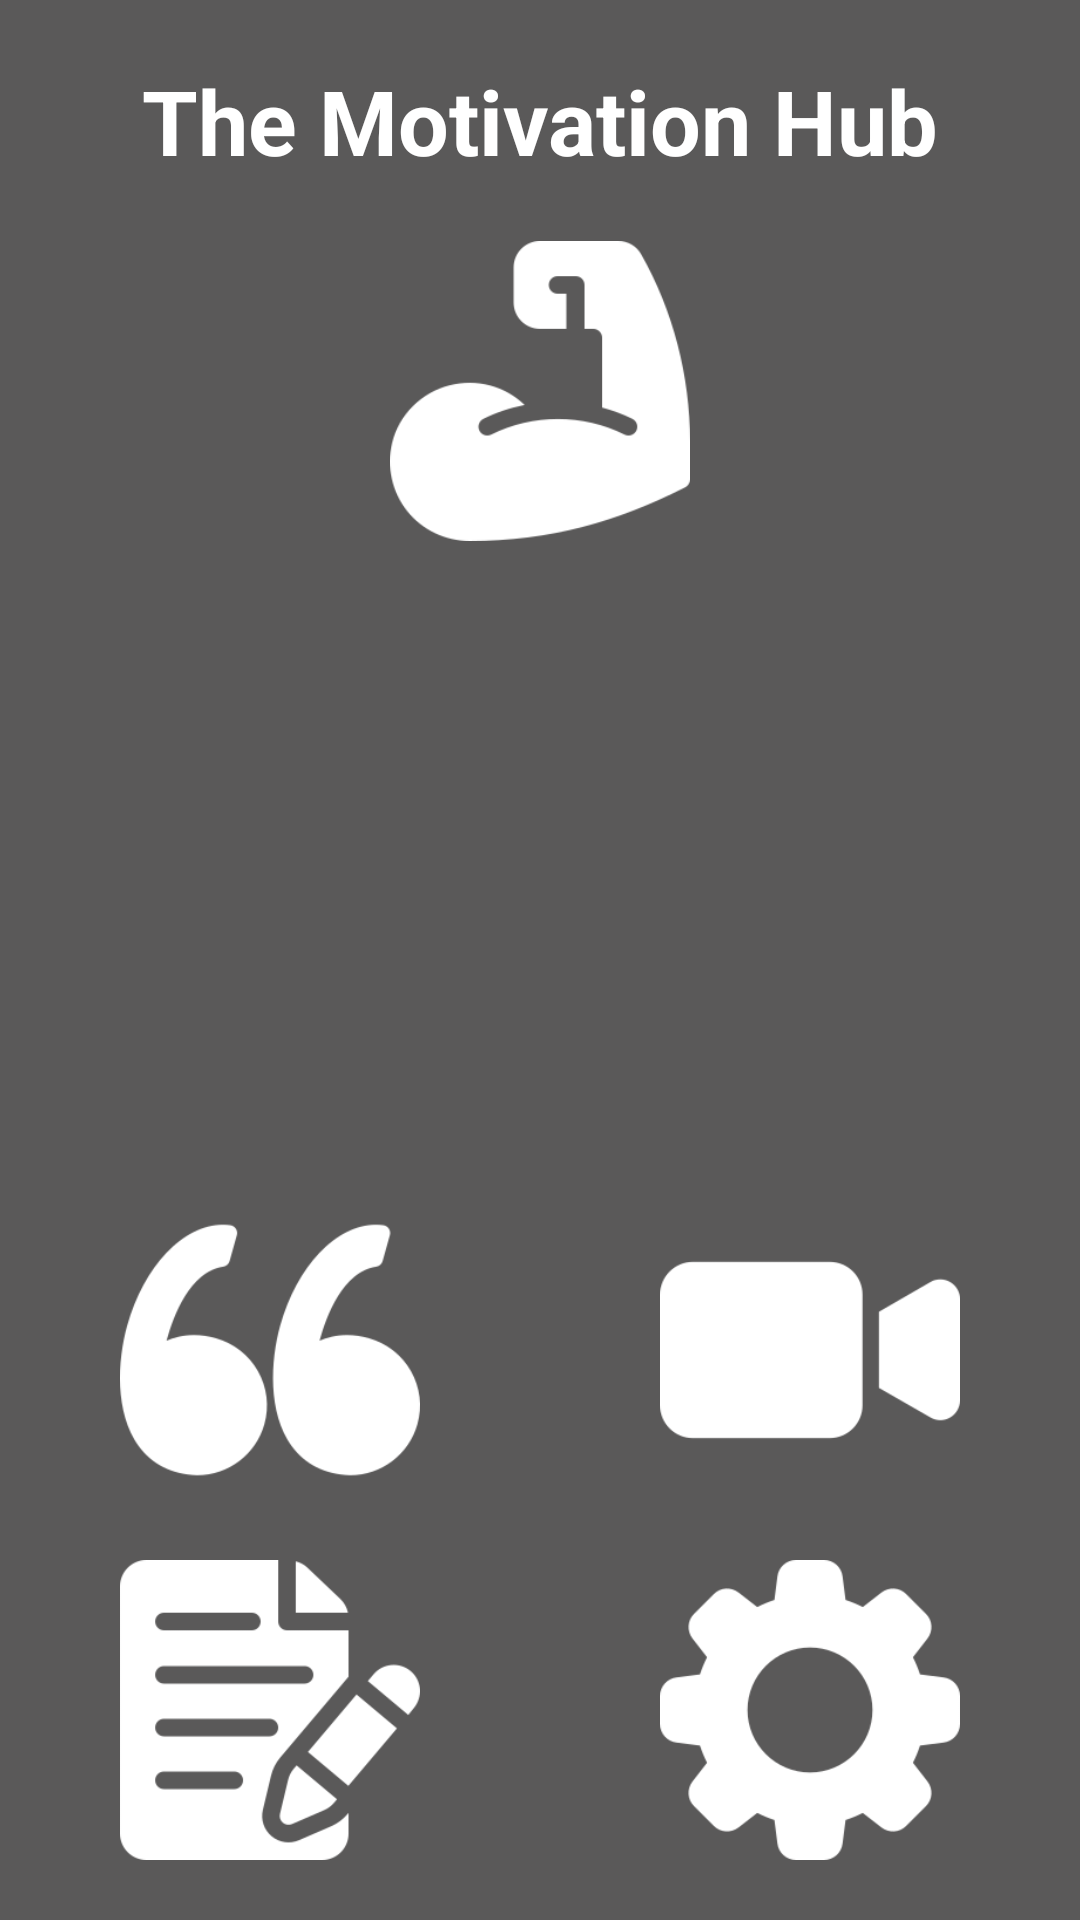

Screen size 1080px x 1920px. Icon name, then its center in pixels as (x,y):
biceps: (540,391)
notes: (270,1710)
quote: (270,1350)
settings: (810,1710)
video: (810,1350)
